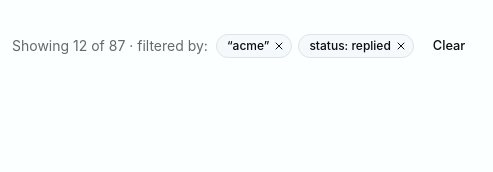
Test: FilterSummary › clears every filter at once and hides itself, keeping the live region
Click the button "Clear" at (449, 46), box [422,32,476,60]
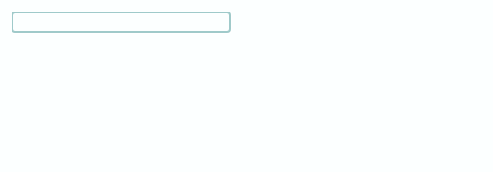
Check: the button "Clear" is gone
